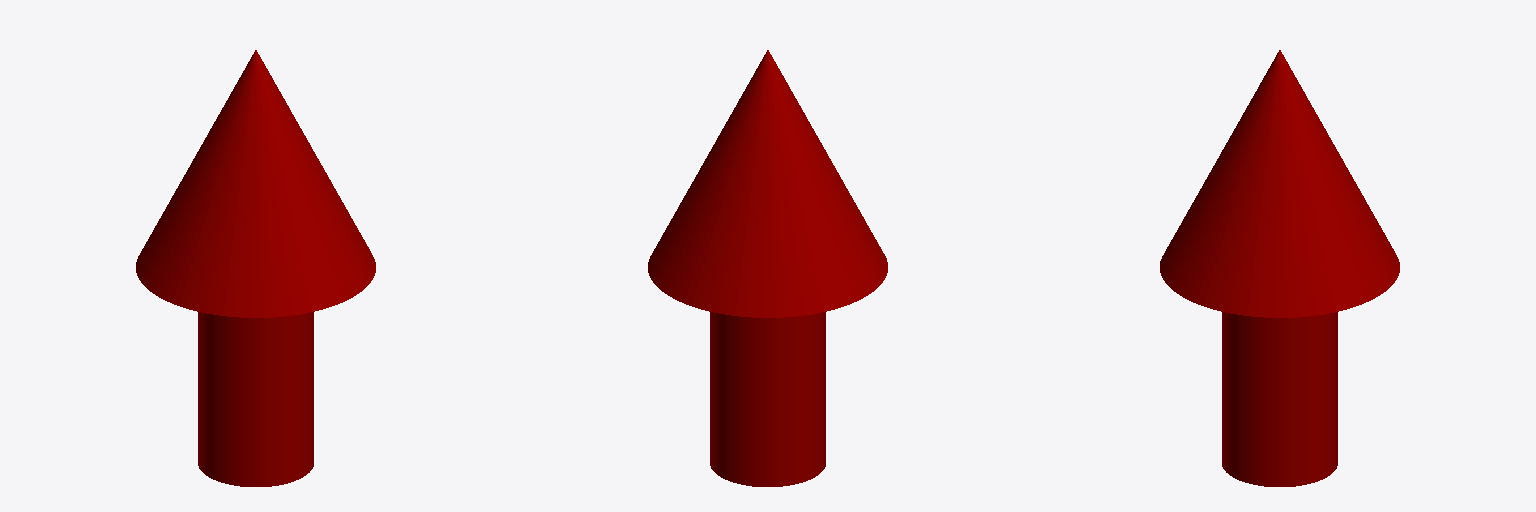
File: arrow.obj
3 renders of one model, left to right at view 1: azimuth 30°, elevation 25°; view 2: azimuth 150°, elevation 25°; view 3: azimuth 270°, elevation 25°, orthographic.
Parts seen in each view (by area): view 1: Cone_Cone.002; view 2: Cone_Cone.002; view 3: Cone_Cone.002.
Boxes of the visible parts, x1=… form: Cone_Cone.002: x1=136, y1=50, x2=375, y2=486; Cone_Cone.002: x1=648, y1=50, x2=887, y2=486; Cone_Cone.002: x1=1160, y1=50, x2=1399, y2=486.
Bounding box in the file's own units: 2 × 3.79 × 2.